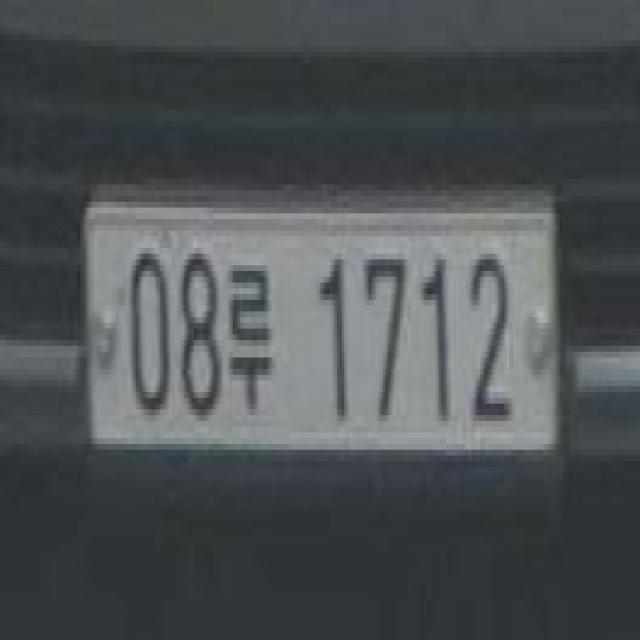illegal_plate: (84, 186, 564, 494)
